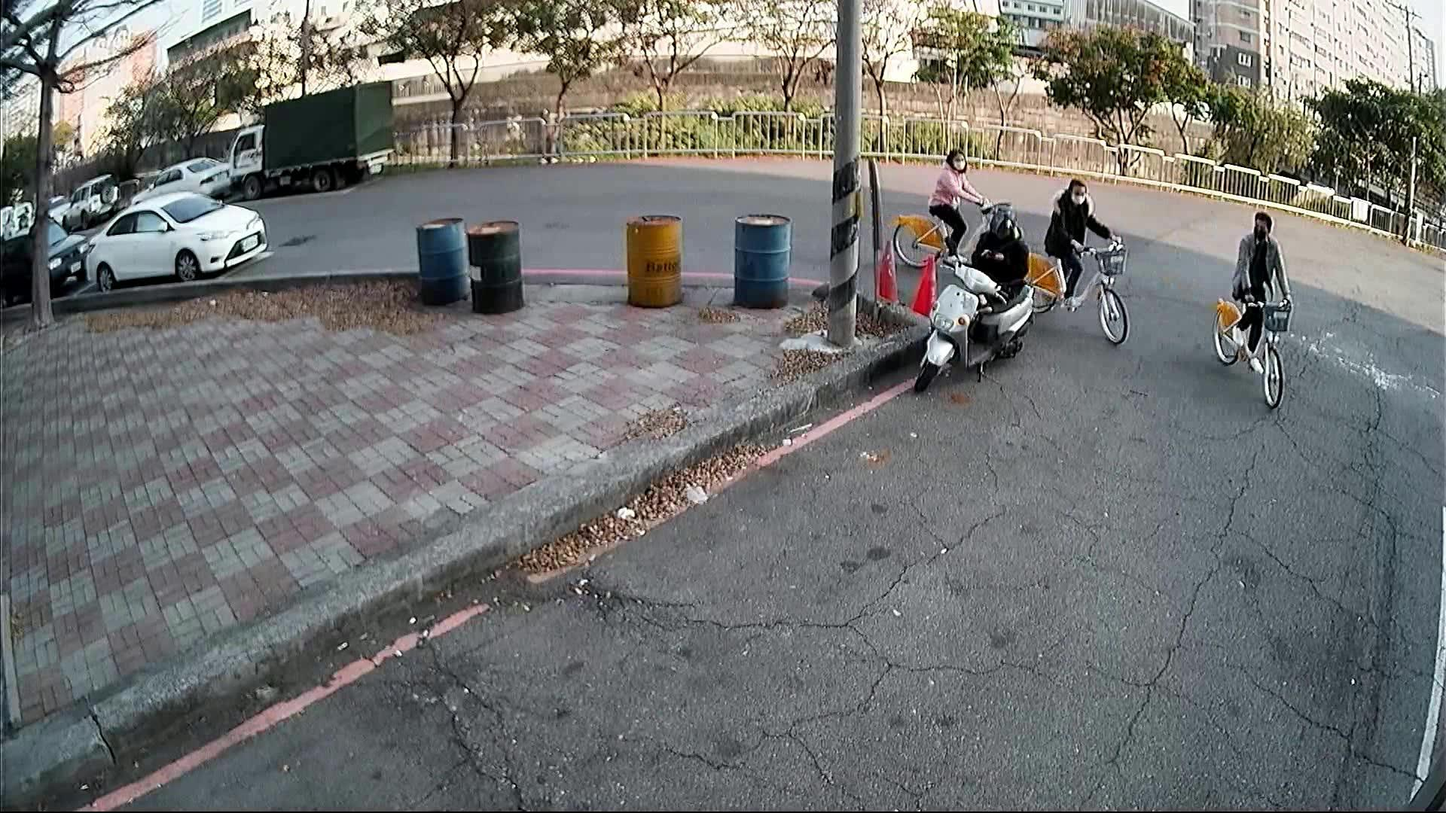person: (1039, 173, 1121, 311), (1226, 208, 1294, 374), (962, 196, 1030, 333), (924, 145, 991, 264)
